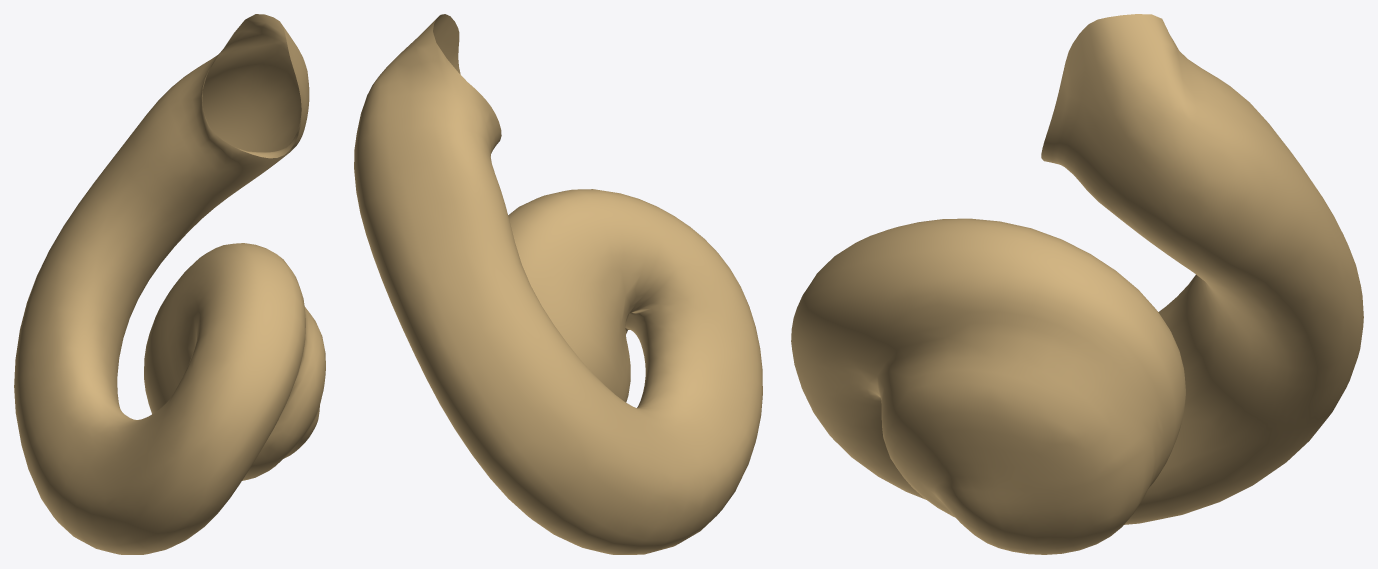
3 views of the same model, side by side, from view 1: azimuth 30°, elevation 25°; view 2: azimuth 150°, elevation 25°; view 3: azimuth 270°, elevation 25° (orthographic). The views are drawn at different scales.
Parts seen in each view (by area): view 1: 左侧耳蜗; view 2: 左侧耳蜗; view 3: 左侧耳蜗.
Part boxes in pixels (x1,y1,x2,y2): 左侧耳蜗: (14,14,325,554); 左侧耳蜗: (354,14,762,554); 左侧耳蜗: (791,14,1363,554).
Size of the model in its own units: 0.00948 by 0.0145 by 0.0118.
